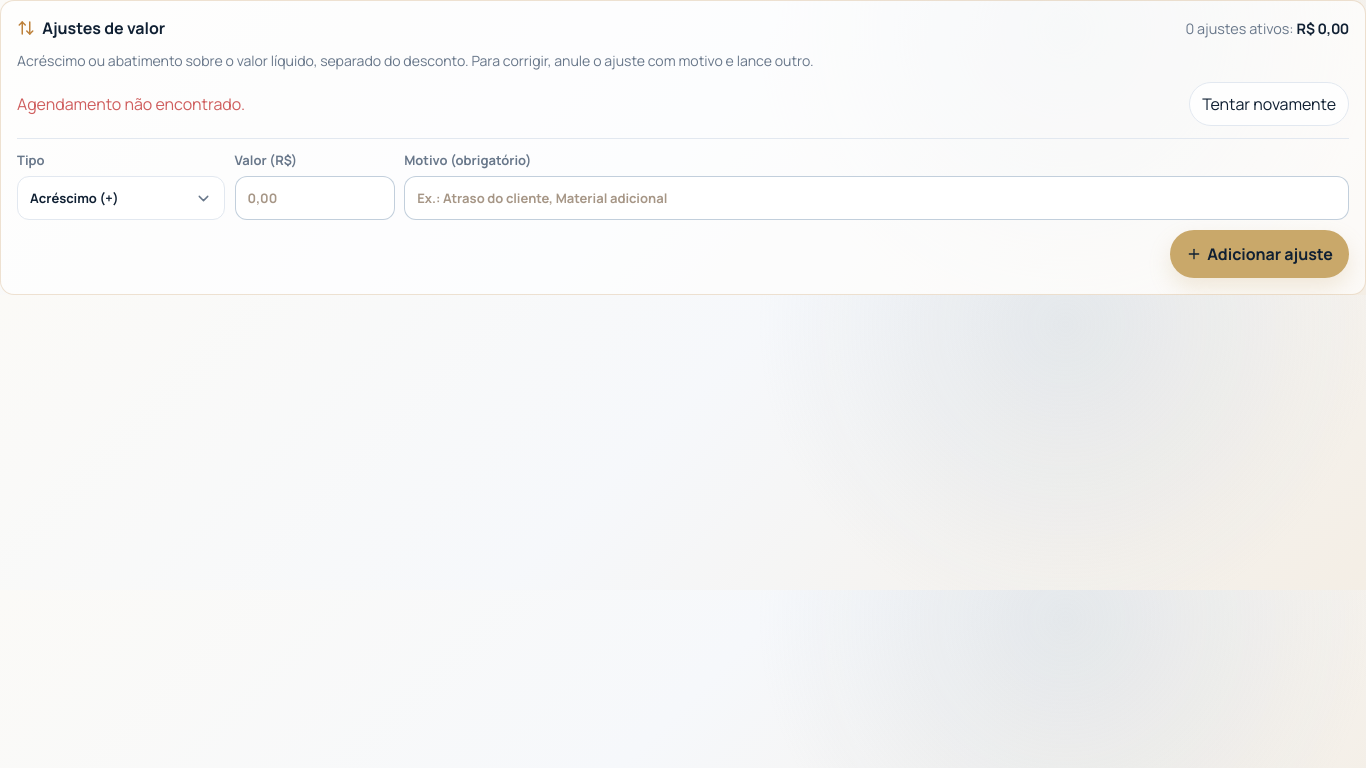
Test: AppointmentValueAdjustments › mostra estado vazio e erro de carga com nova tentativa
Expected: the message shows "Agendamento não encontrado.", [17,93,245,115]
Click the button "Tentar novamente". click: (1269, 104)
box: [1189,82,1349,126]
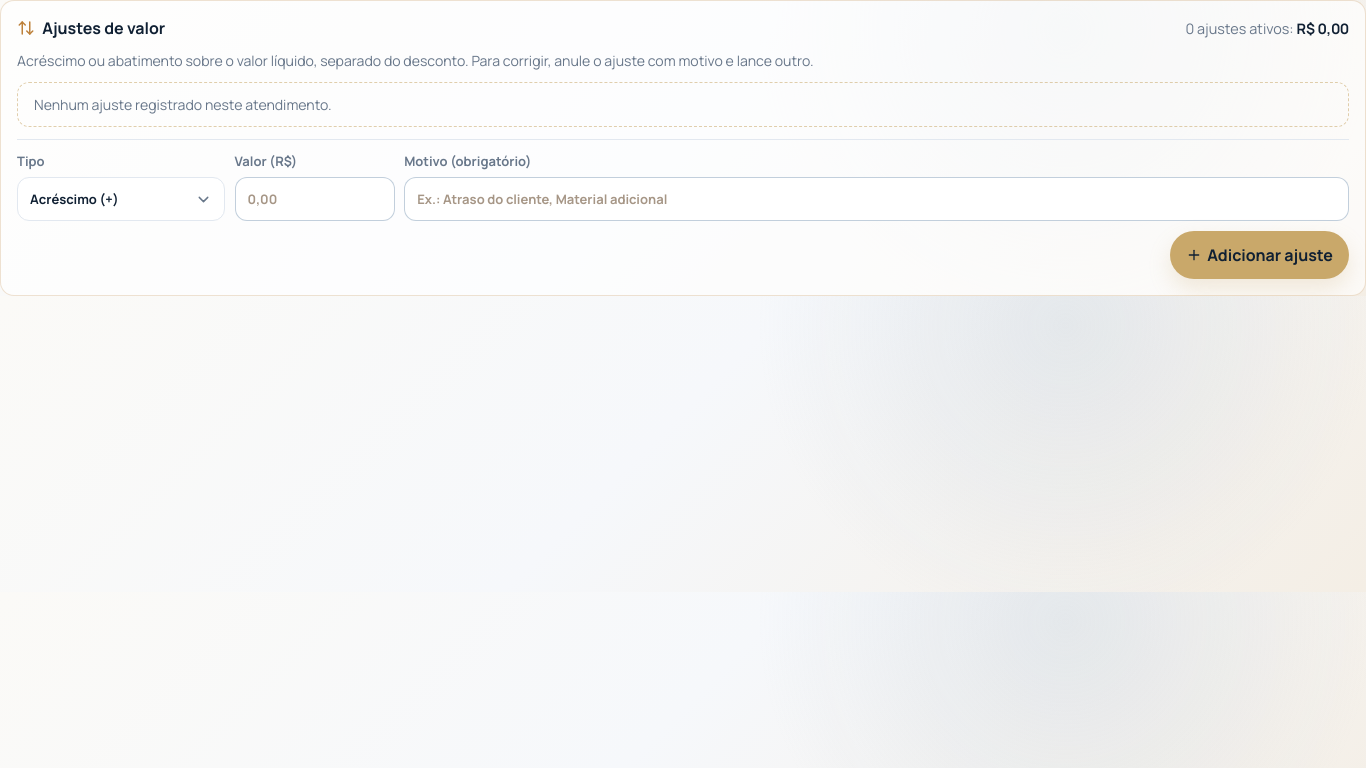
Expected: the text "Nenhum ajuste registrado neste atendimento." is shown, [17,82,1349,127]
